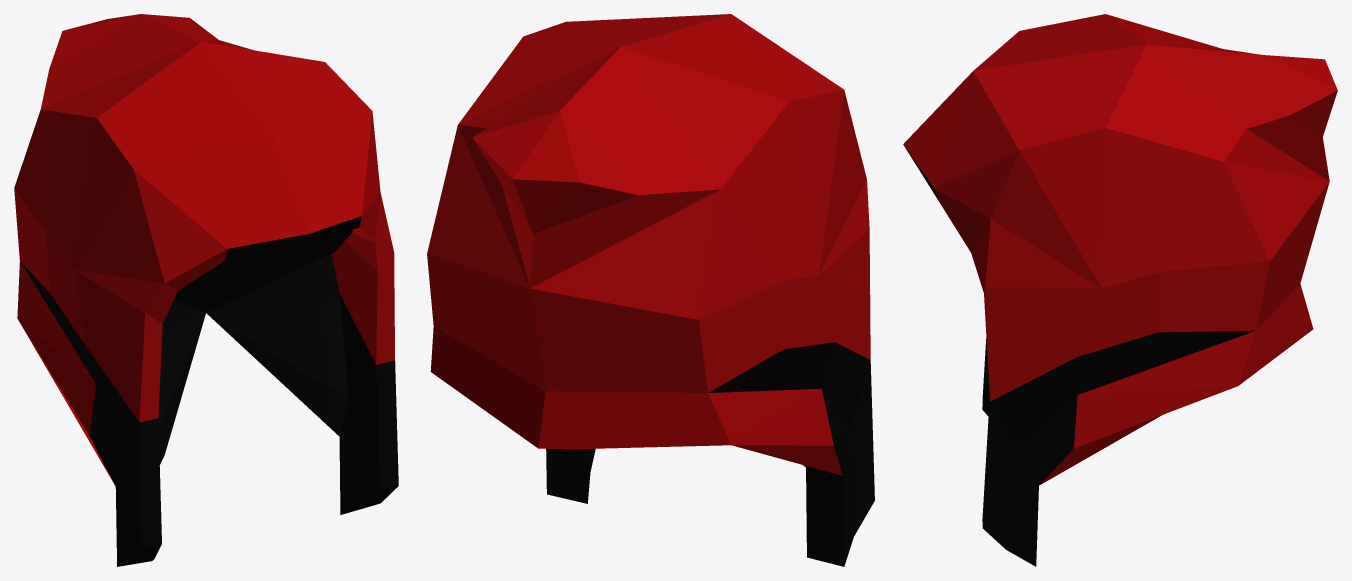
The model's file is Chr_HeadCoverings_NoHair_Static_13.fbx.
The picture shows the model from 3 angles, left to right: view 1: azimuth 30°, elevation 25°; view 2: azimuth 150°, elevation 25°; view 3: azimuth 270°, elevation 25°; orthographic projection. The views are drawn at different scales.
Parts seen in each view (by area): view 1: Chr_HeadCoverings_No_Hair_13; view 2: Chr_HeadCoverings_No_Hair_13; view 3: Chr_HeadCoverings_No_Hair_13.
Boxes of the visible parts, x1,y1,x2,y2 form: Chr_HeadCoverings_No_Hair_13: (14, 14, 398, 566); Chr_HeadCoverings_No_Hair_13: (427, 14, 874, 566); Chr_HeadCoverings_No_Hair_13: (903, 14, 1337, 566).
Bounding box in the file's own units: 27.79 × 43 × 36.42.
